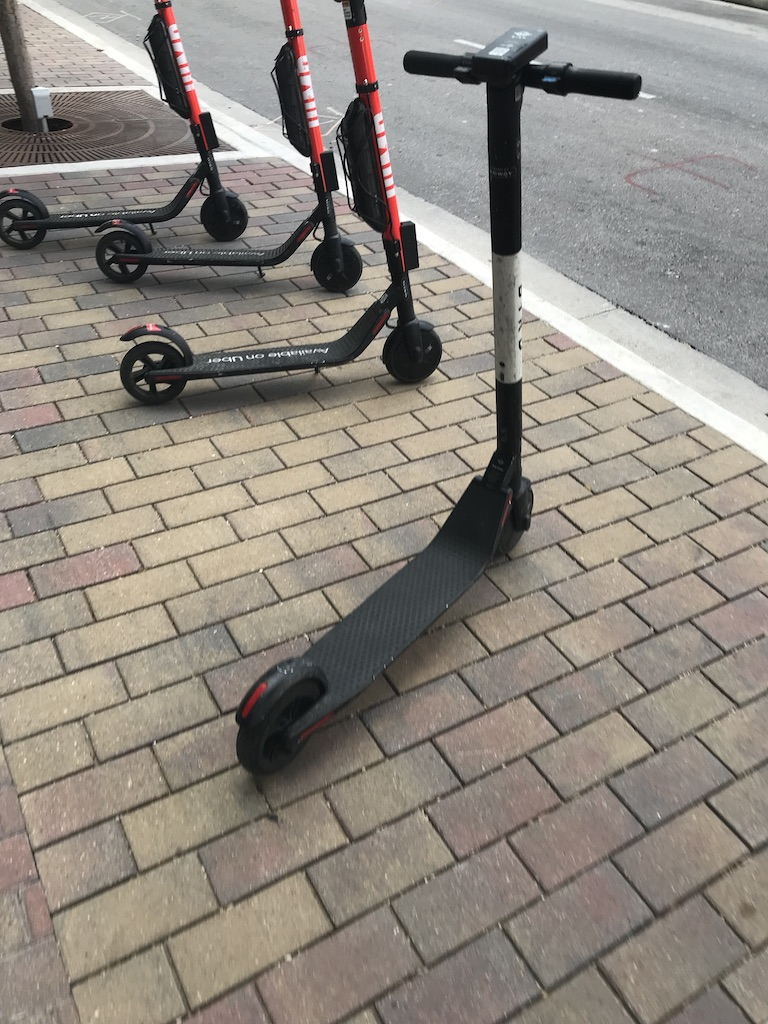scooter: (234, 23, 641, 780), (118, 1, 444, 404), (93, 5, 366, 297), (3, 5, 251, 251)
